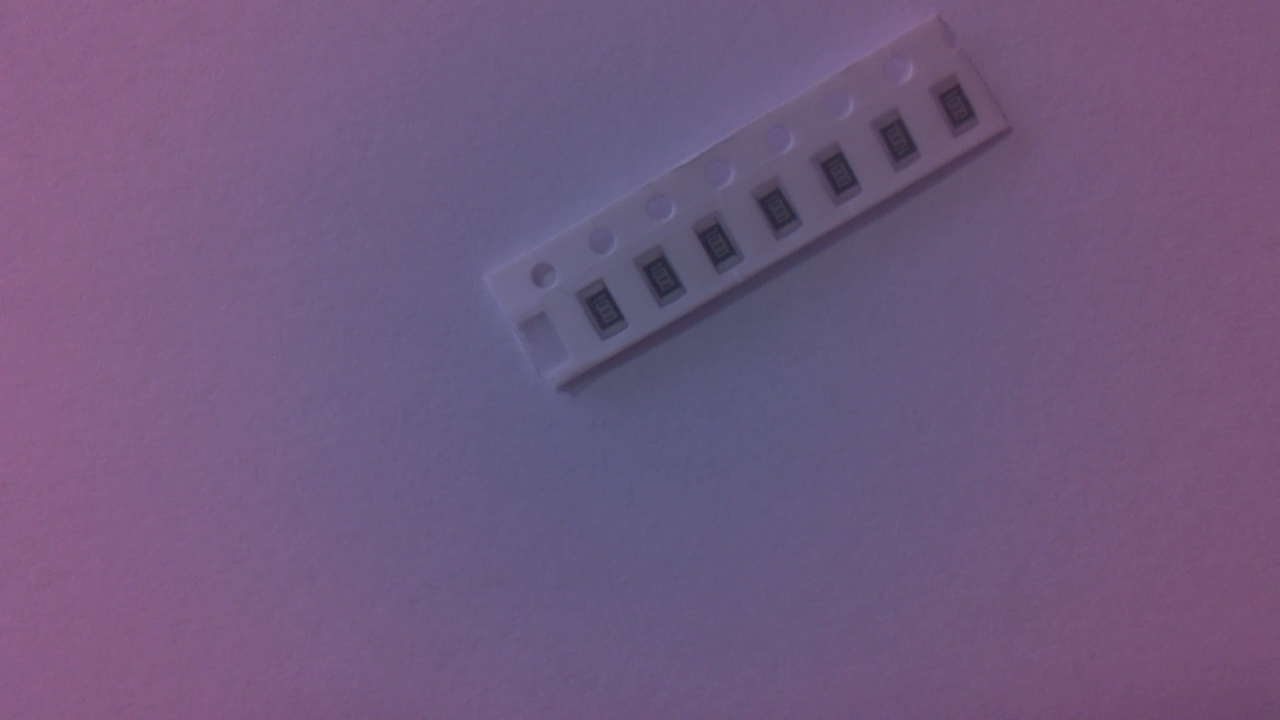Resistor: (696, 213, 752, 280), (810, 146, 866, 212), (871, 109, 926, 176), (754, 180, 811, 244), (579, 280, 635, 345), (931, 79, 988, 142), (637, 248, 692, 313)
